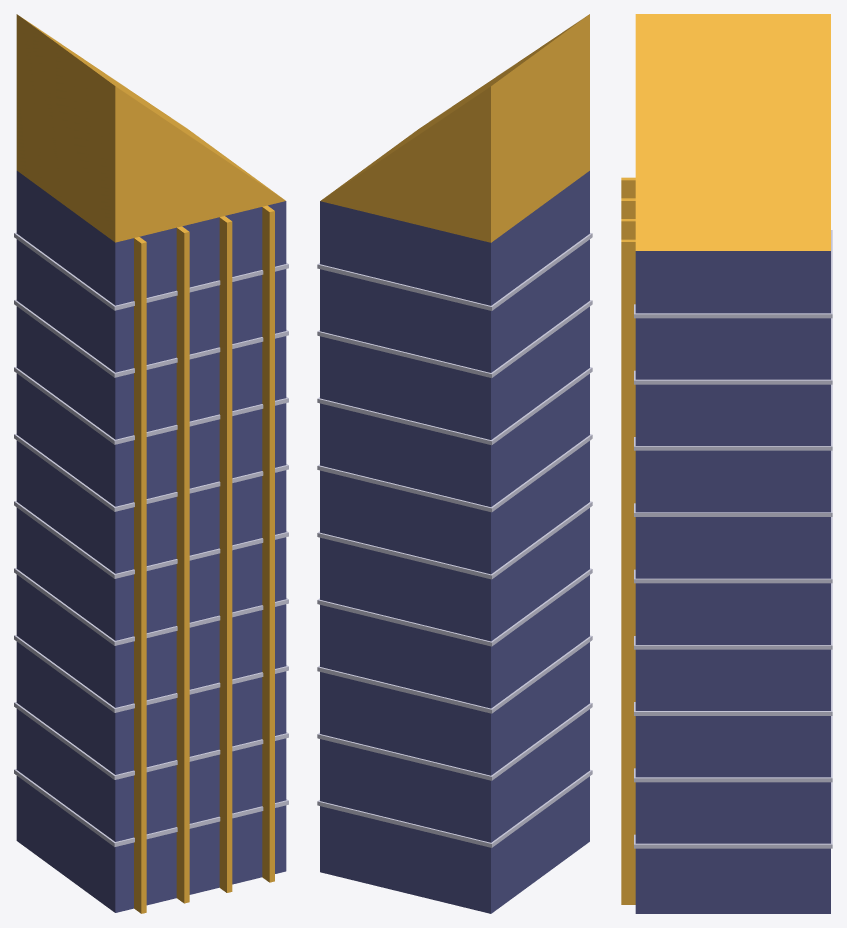
The model's file is naira-pay.glb.
3 views of the same model, side by side, from view 1: azimuth 30°, elevation 25°; view 2: azimuth 150°, elevation 25°; view 3: azimuth 270°, elevation 25° (orthographic).
Visible parts, largest first — view 1: naira-pay_Building; view 2: naira-pay_Building; view 3: naira-pay_Building.
Boxes of the visible parts, x1,y1,x2,y2 form: naira-pay_Building: [14, 14, 288, 913]; naira-pay_Building: [317, 14, 592, 913]; naira-pay_Building: [621, 14, 832, 913].
Size of the model in its own units: 8.16 by 37 by 8.68.
